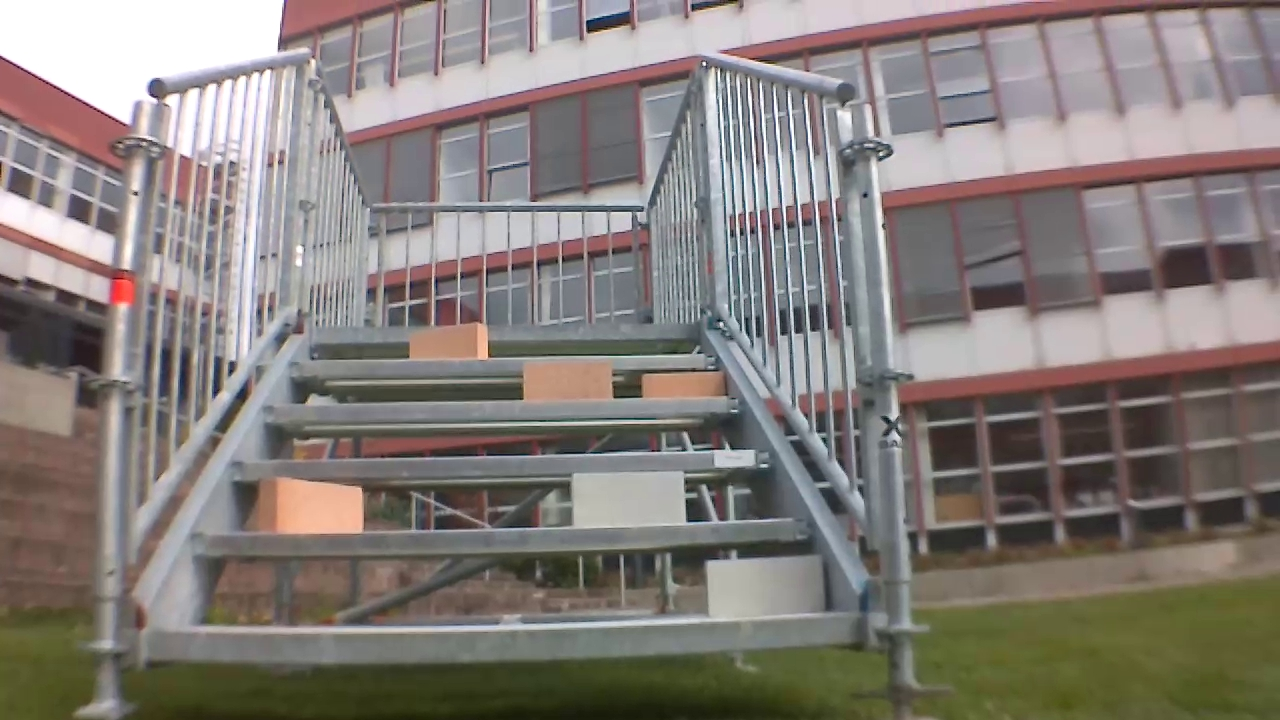brick: (706, 556, 823, 617), (257, 478, 361, 534), (574, 474, 683, 524), (410, 322, 488, 361), (525, 363, 610, 398), (643, 372, 721, 397)
edge: (148, 615, 854, 663), (190, 519, 811, 556), (230, 450, 775, 477), (261, 397, 744, 421), (287, 355, 714, 376), (313, 323, 696, 342)
stairs: (79, 46, 951, 720)
steps: (141, 318, 858, 669)
